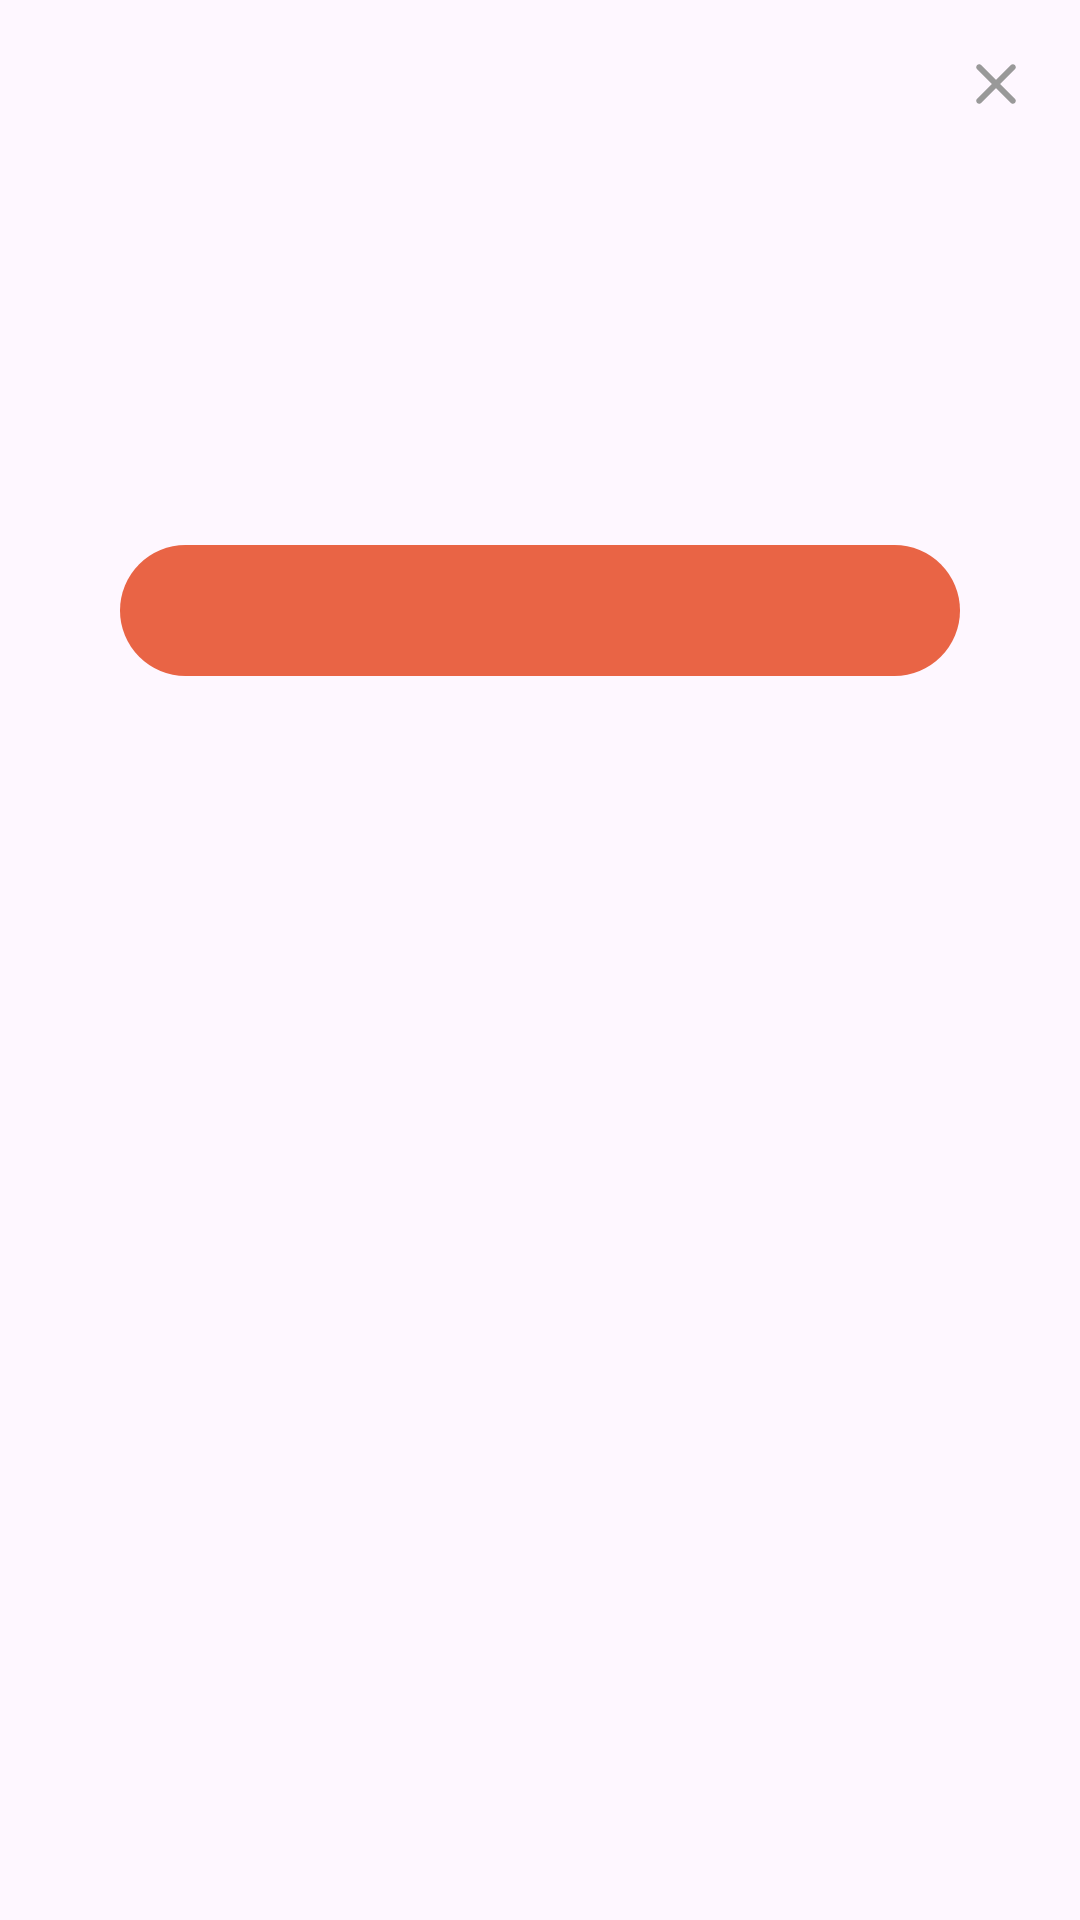

Icons on this 1080w x 1920h Android screen, each with the point to tap as (x=x, y=y):
close: (x=996, y=84)
